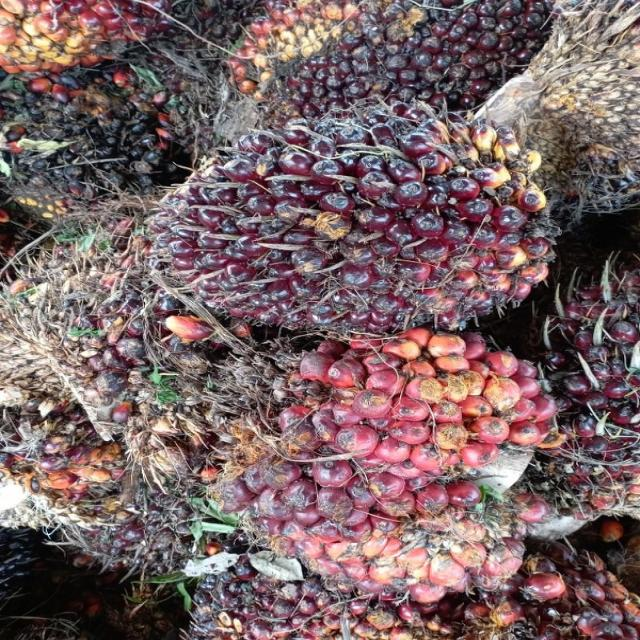fraksi 1: (102, 49, 614, 383)
fraksi 3: (146, 303, 624, 623)
